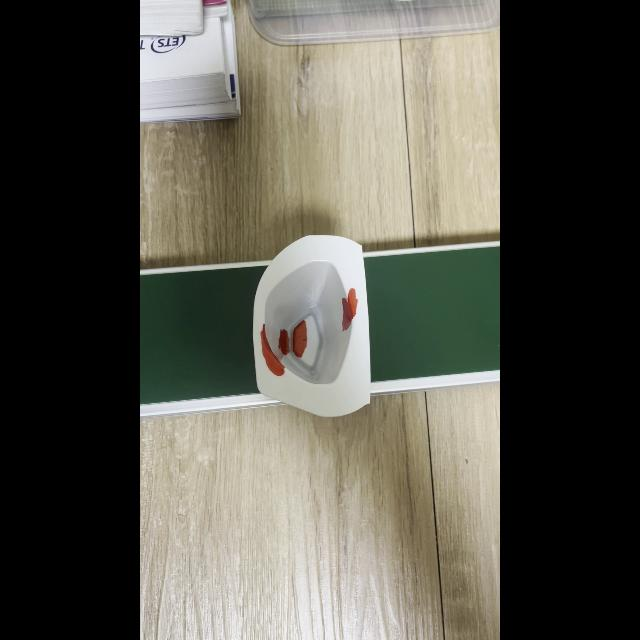dirty: (254, 250, 370, 402)
